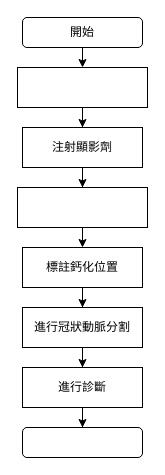
This 165x475 diagram has some shape labels left out. The centre of each missing label's shape, as x and y in pixels:
結束: pixel 82 442
進行無顯影劑之 電腦斷層掃描攝影: pixel 82 87
進行進行有顯影劑之 電腦斷層掃描攝影: pixel 82 207
